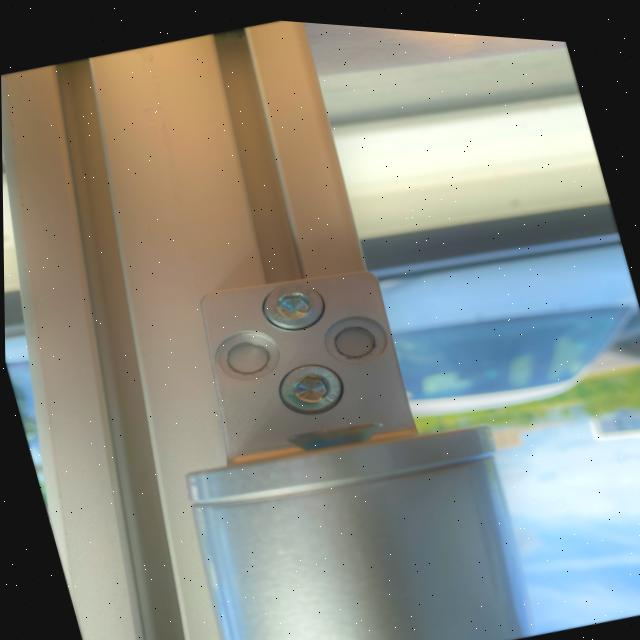Hex Socket Allen: (271, 354, 348, 423), (256, 274, 328, 338)
